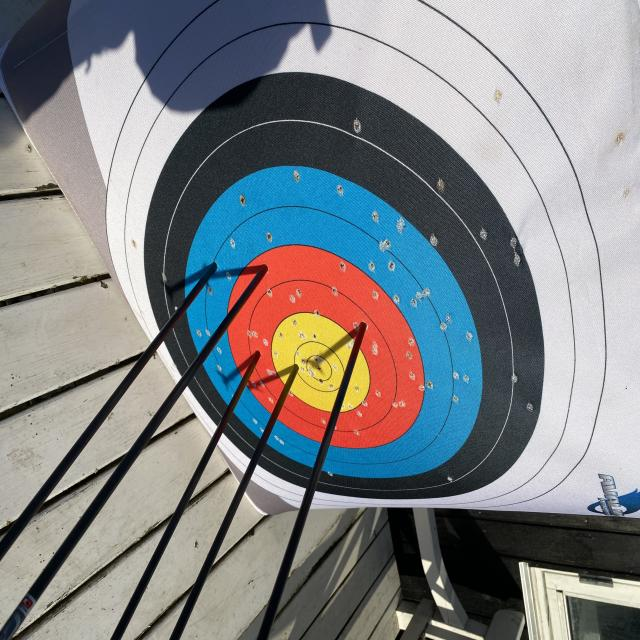Arrow_Blue: (194, 241, 226, 291)
Arrow_Red: (239, 228, 278, 300), (238, 328, 268, 378), (353, 296, 379, 350)
Arrow_Yellow: (286, 340, 308, 402)
